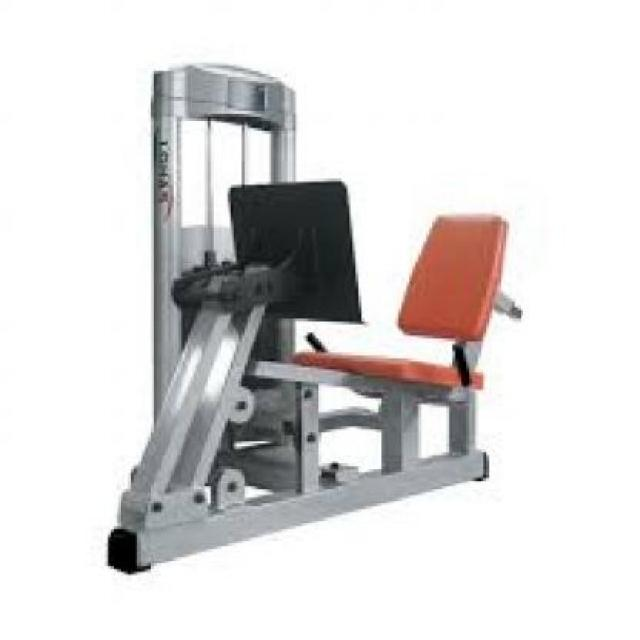leg press: (66, 54, 569, 586)
